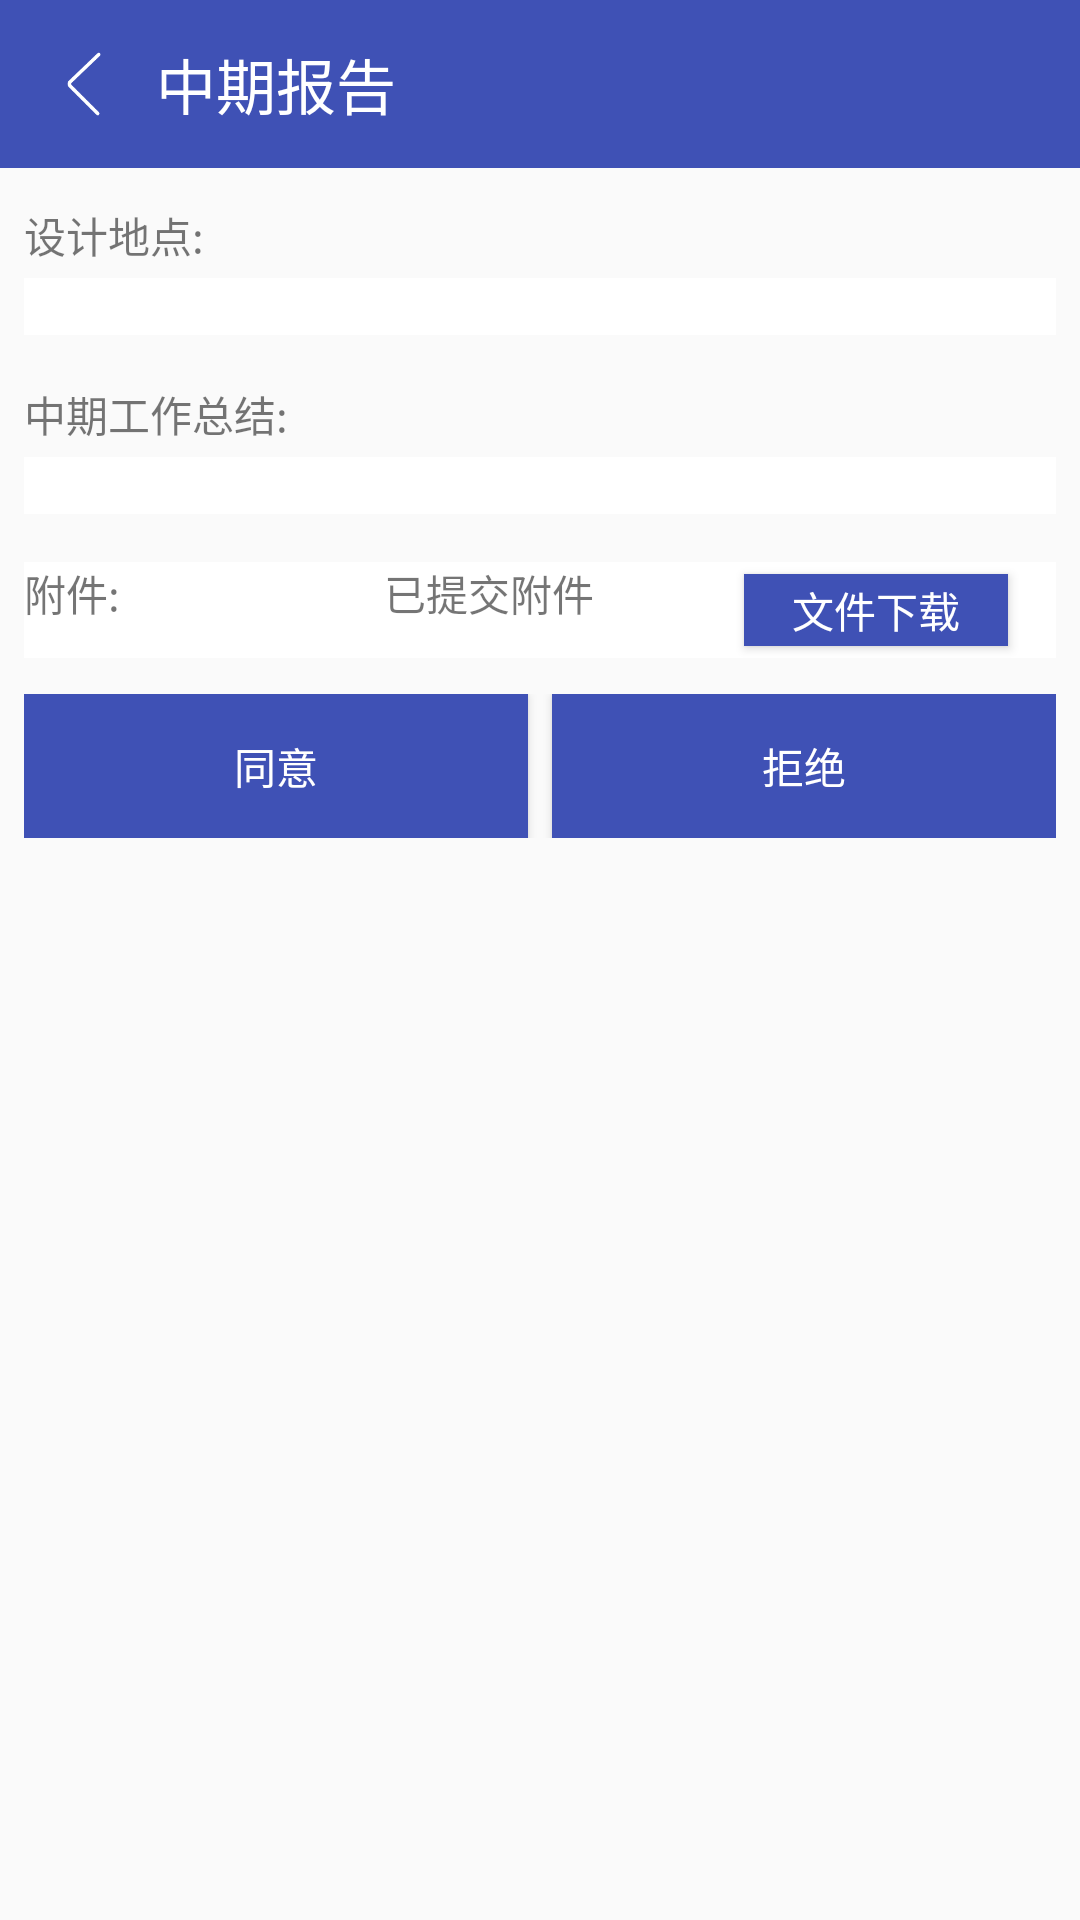

Named icons in this screenshot (1080×1920) and their bounding boxes, (x1, y1, x2, y2):
arrowleft: (67, 52, 101, 116)
